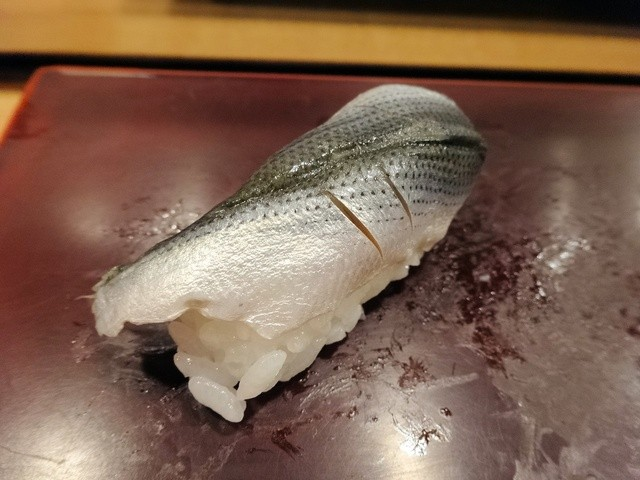spotted-shad: (90, 81, 487, 426)
